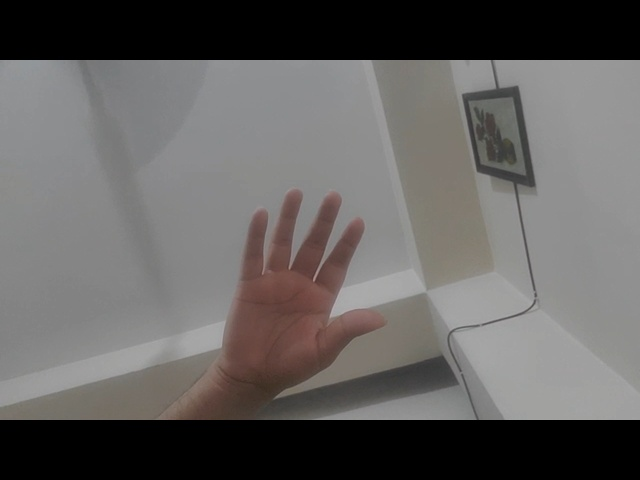Hello: (199, 177, 392, 404)
